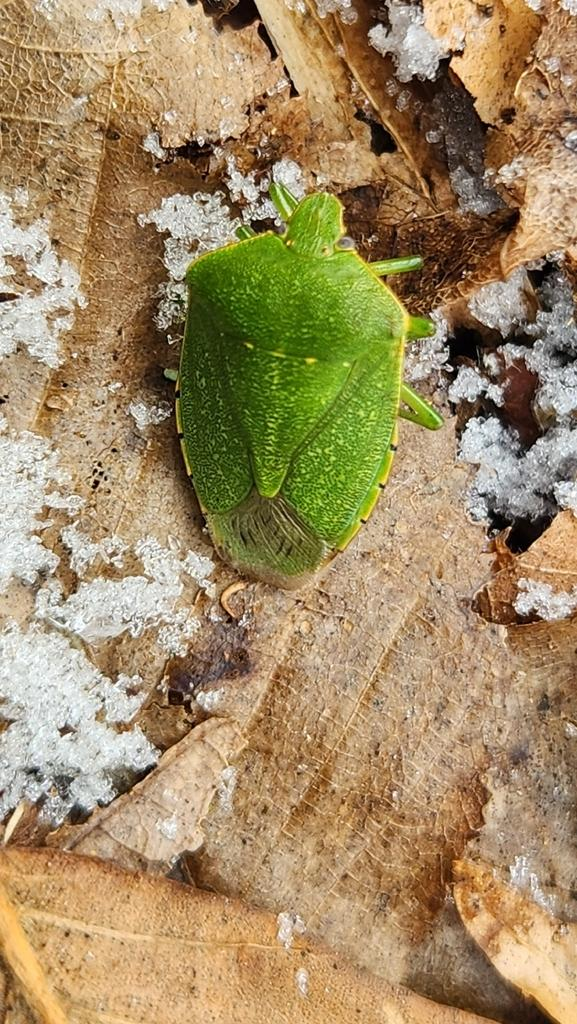stink_bugs: (96, 108, 516, 691)
